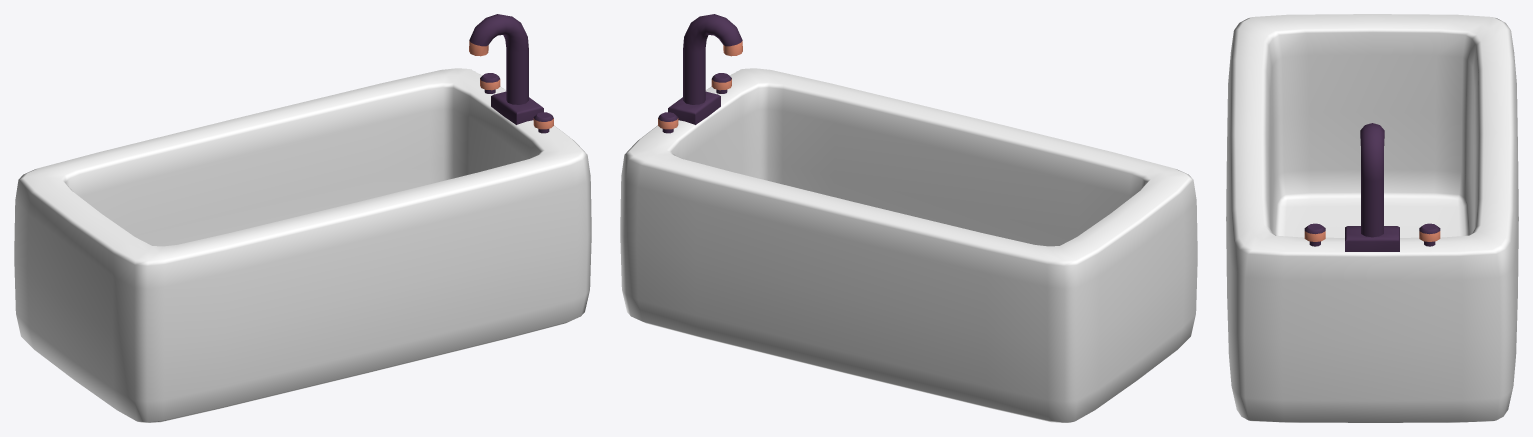
File: Tub.fbx
3 renders of one model, left to right at view 1: azimuth 30°, elevation 25°; view 2: azimuth 150°, elevation 25°; view 3: azimuth 270°, elevation 25°, orthographic. The views are drawn at different scales.
Parts seen in each view (by area): view 1: tub; view 2: tub; view 3: tub.
Boxes of the visible parts, x1,y1,x2,y2 form: tub: (14,14,591,422); tub: (620,14,1197,422); tub: (1226,14,1518,422).
Size of the model in its own units: 1673 by 910 by 847.
